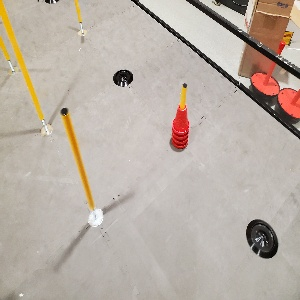Red_4: (172, 101, 189, 149)
